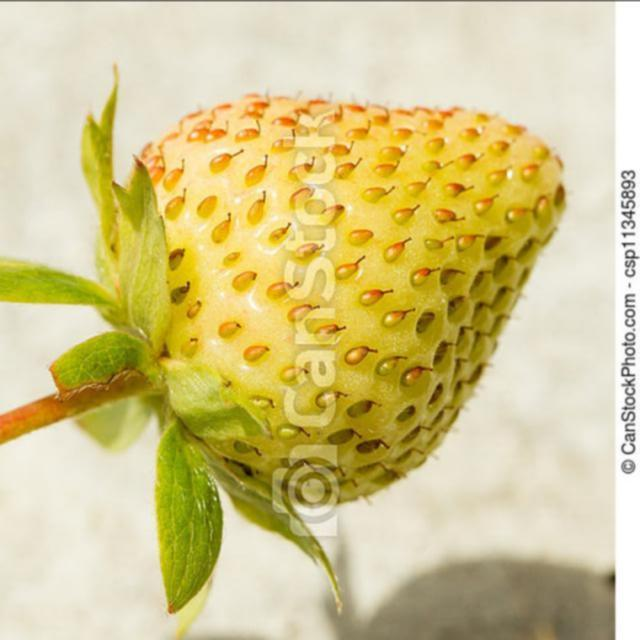strawberry: (120, 94, 565, 503)
